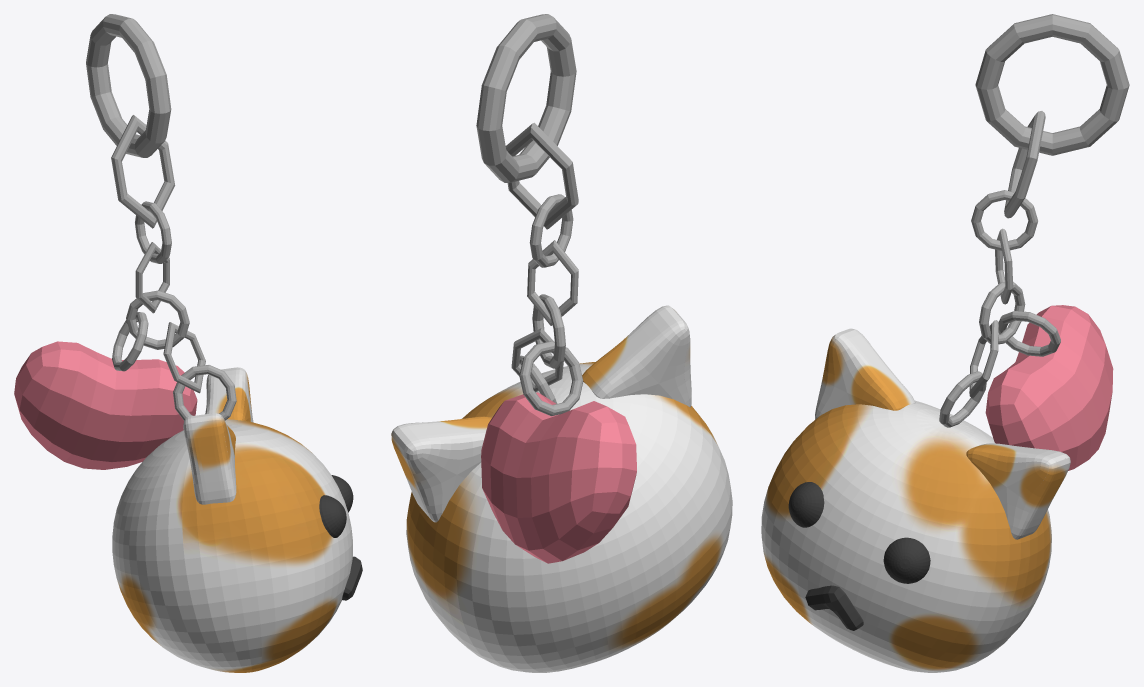
Rendered from cat_keychain.glb.
3 renders of one model, left to right at view 1: azimuth 30°, elevation 25°; view 2: azimuth 150°, elevation 25°; view 3: azimuth 270°, elevation 25°, orthographic. The views are drawn at different scales.
Parts seen in each view (by area): view 1: Sphere, Cube.002, Torus, Cube, Torus.001, Torus.004, Torus.006, Torus.007, Torus.002, Torus.005, Torus.003, Cylinder; view 2: Sphere, Cube.002, Cube, Torus, Torus.001, Torus.007, Torus.002, Torus.003, Torus.004, Torus.005; view 3: Sphere, Cube.002, Cube, Torus, Torus.001, Cylinder.001, Torus.002, Cube.001, Torus.007, Cylinder, Torus.004, Torus.006 (+2 smaller).
Boxes of the visible parts, left/top/right/bottom form: Sphere: left=112, top=419, right=352, bottom=672; Cube.002: left=14, top=341, right=197, bottom=469; Torus: left=86, top=14, right=171, bottom=157; Cube: left=183, top=367, right=253, bottom=504; Torus.001: left=111, top=115, right=175, bottom=228; Torus.004: left=126, top=290, right=189, bottom=349; Torus.006: left=173, top=365, right=236, bottom=420; Torus.007: left=112, top=312, right=148, bottom=371; Torus.002: left=135, top=201, right=171, bottom=263; Torus.005: left=163, top=322, right=205, bottom=393; Torus.003: left=135, top=242, right=169, bottom=313; Cylinder: left=319, top=495, right=346, bottom=537; Sphere: left=406, top=362, right=732, bottom=672; Cube.002: left=481, top=392, right=636, bottom=563; Cube: left=391, top=305, right=691, bottom=522; Torus: left=476, top=14, right=576, bottom=182; Torus.001: left=505, top=122, right=578, bottom=229; Torus.007: left=519, top=341, right=583, bottom=416; Torus.002: left=529, top=194, right=573, bottom=267; Torus.003: left=527, top=240, right=578, bottom=325; Torus.004: left=532, top=294, right=565, bottom=368; Torus.005: left=511, top=328, right=563, bottom=392; Sphere: left=761, top=400, right=1051, bottom=672; Cube.002: left=985, top=305, right=1113, bottom=470; Cube: left=815, top=328, right=1070, bottom=539; Torus: left=975, top=14, right=1129, bottom=155; Torus.001: left=1004, top=111, right=1045, bottom=218; Cylinder.001: left=883, top=537, right=930, bottom=583; Torus.002: left=971, top=190, right=1037, bottom=250; Cube.001: left=805, top=585, right=863, bottom=630; Torus.007: left=998, top=311, right=1060, bottom=356; Cylinder: left=788, top=482, right=824, bottom=527; Torus.004: left=979, top=281, right=1025, bottom=344; Torus.006: left=939, top=371, right=986, bottom=427.
Size of the model in its own units: 0.5011 by 1.14 by 0.6115.
5 materials, 2 textured.
